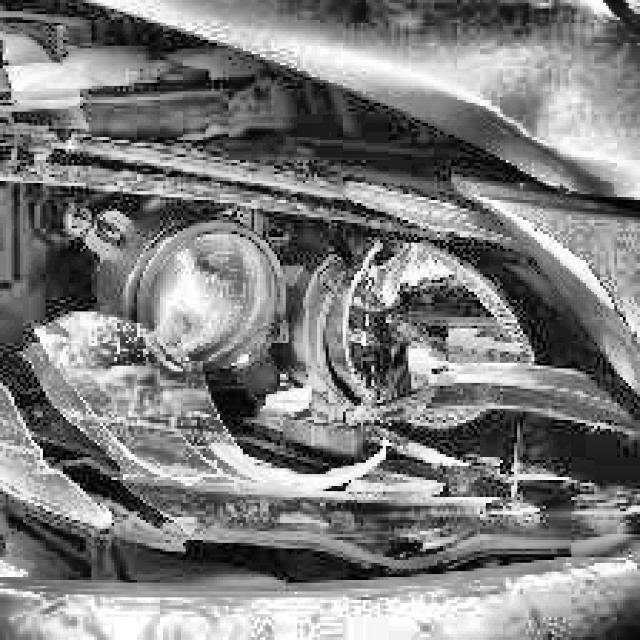head_lamp: (22, 164, 596, 547)
